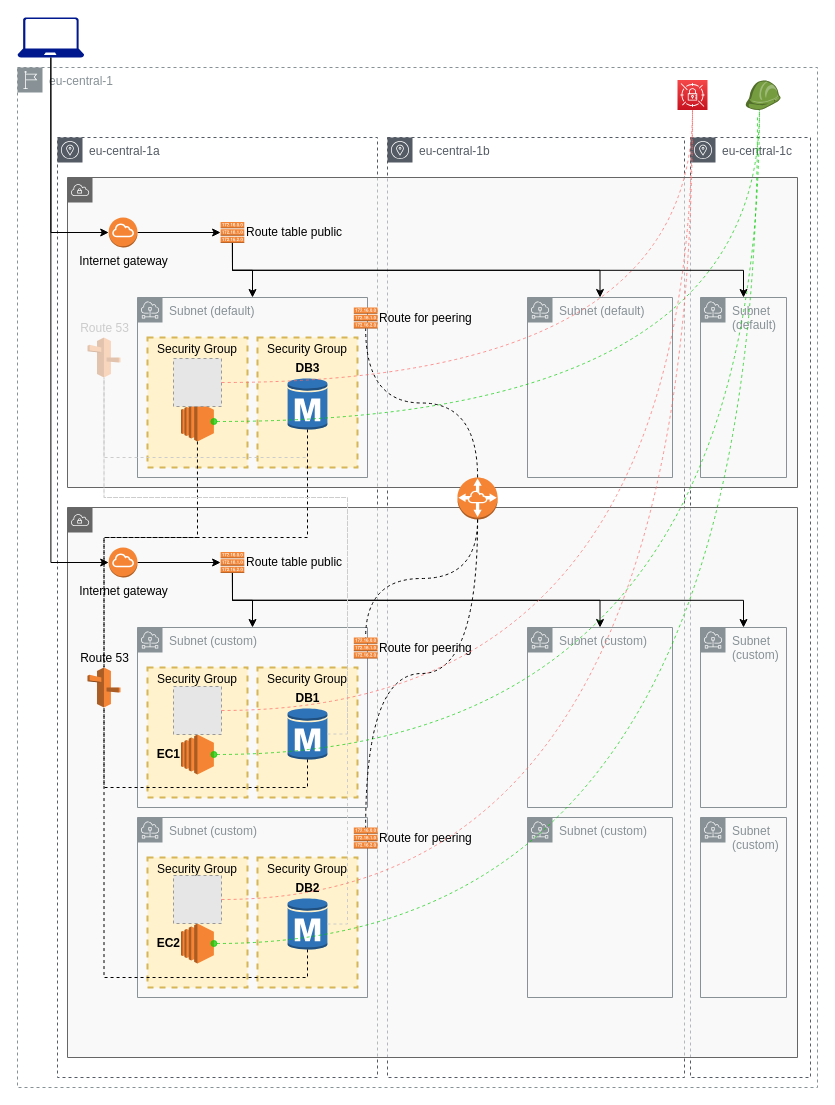
Some shapes in this 835 by 1105 pixel diagram are drawn without their labels. Grey dashed boxes stand in for pictures. Each missing label, with the box of its shape:
db secrets: (676, 79, 708, 110)
EC3: (180, 400, 214, 442)
IAM role: (744, 80, 780, 110)
Peering Connection: (456, 476, 498, 520)
VPC (custom): (66, 506, 798, 1058)
VPC (default): (66, 176, 798, 488)
